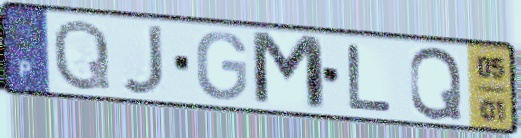G: (194, 29, 250, 103)
J: (118, 24, 167, 98)
L: (344, 41, 396, 114)
M: (247, 28, 331, 115)
Q: (51, 16, 114, 94), (406, 44, 465, 122)
